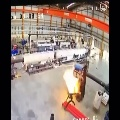fire: (63, 67, 81, 94)
